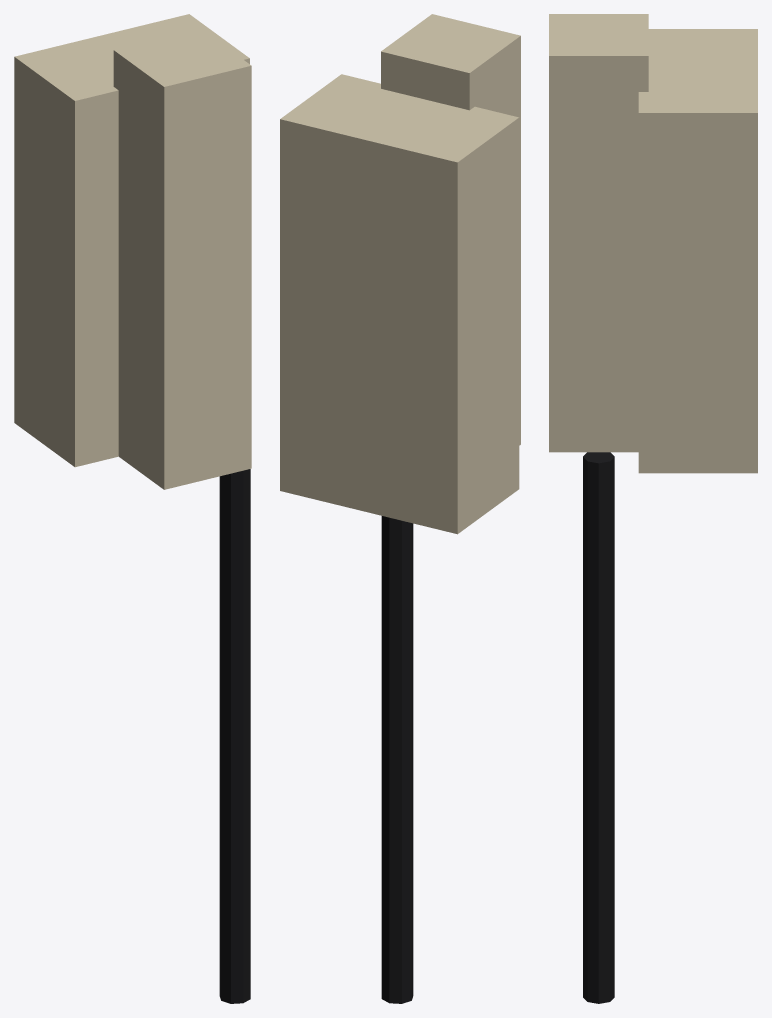
Rendered from phone.glb.
3 renders of one model, left to right at view 1: azimuth 30°, elevation 25°; view 2: azimuth 150°, elevation 25°; view 3: azimuth 270°, elevation 25°, orthographic. The views are drawn at different scales.
Parts seen in each view (by area): view 1: phone; view 2: phone; view 3: phone.
Part boxes in pixels (x1=…): phone: x1=14, y1=14, x2=251, y2=1003; phone: x1=280, y1=14, x2=520, y2=1003; phone: x1=549, y1=14, x2=757, y2=1003.
Bounding box in the file's own units: 0.1 × 0.52 × 0.105.
